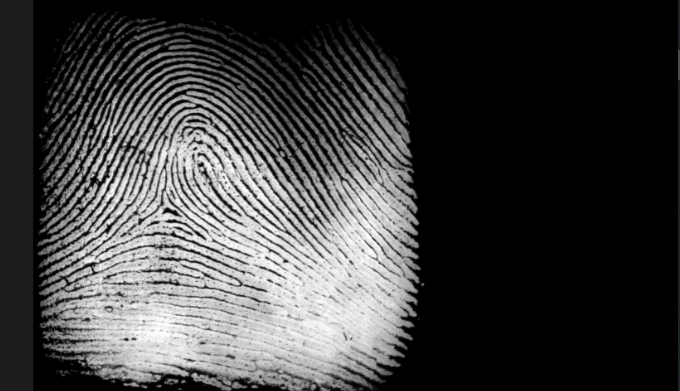deltas: (134, 179, 197, 239)
nucleo: (164, 106, 242, 191)
